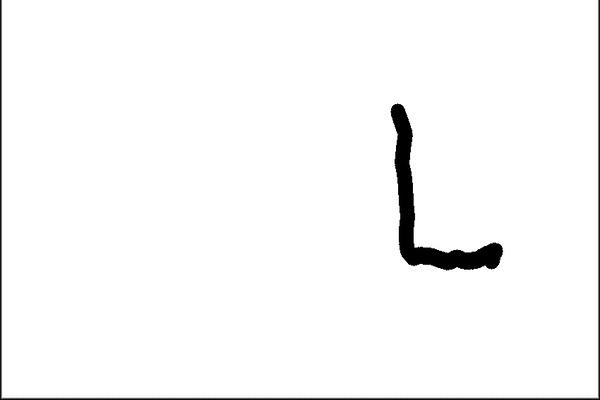L: (383, 95, 505, 278)
